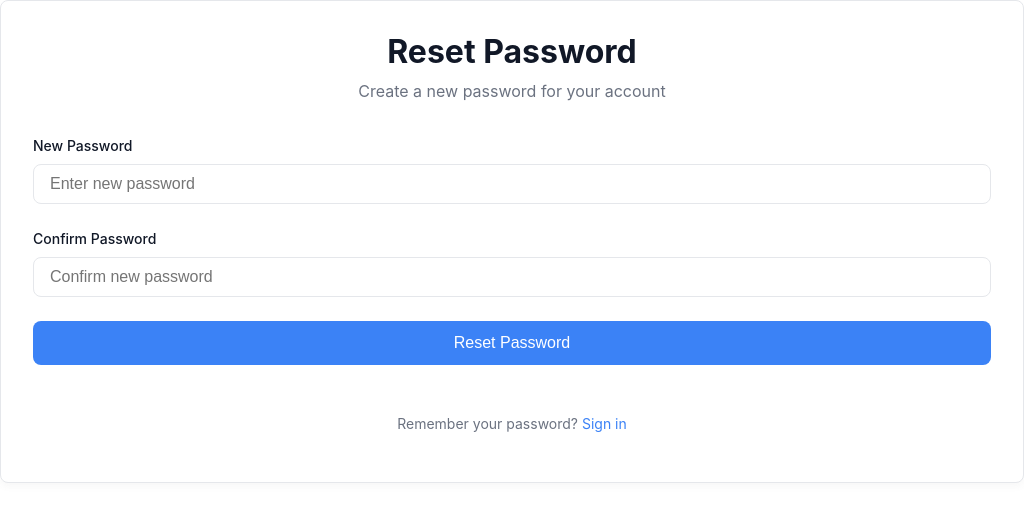
Test: ChangePasswordForm › shows password length error if password is too short on submit
The image size is (1024, 529).
In the password field labelled "New Password": (512, 184) [33,164,991,204], type "short"
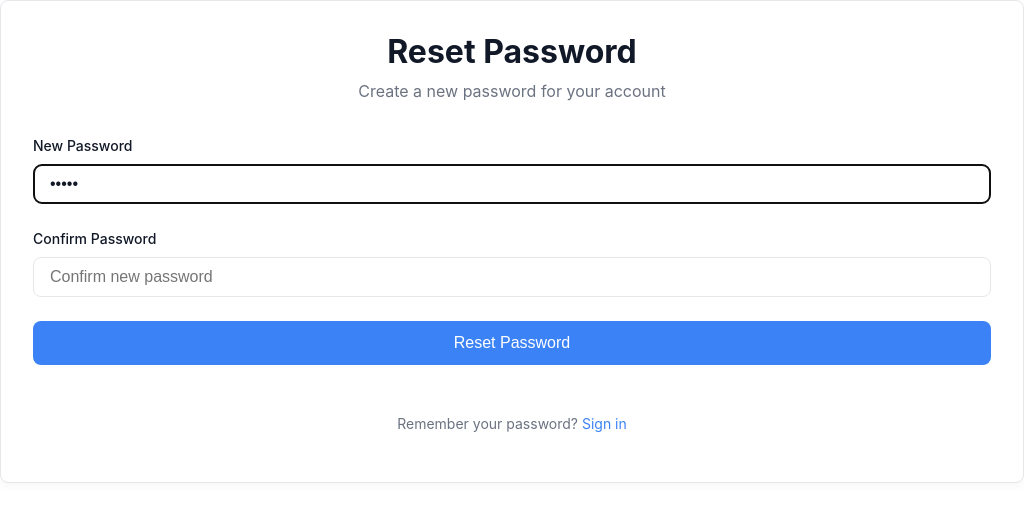
In the password field labelled "Confirm Password": (512, 277) [33,257,991,297], type "short"
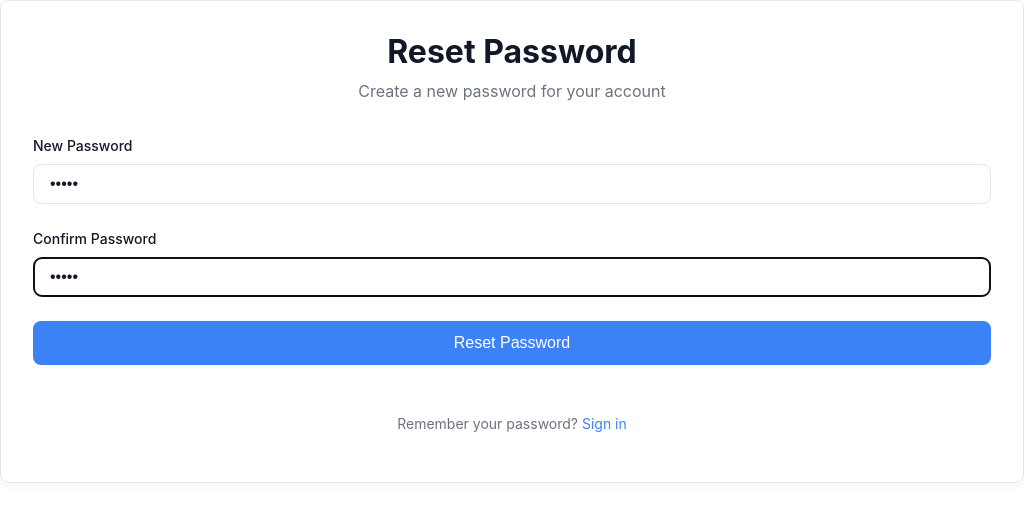
Click the button "Reset Password": (512, 343) [33,321,991,365]
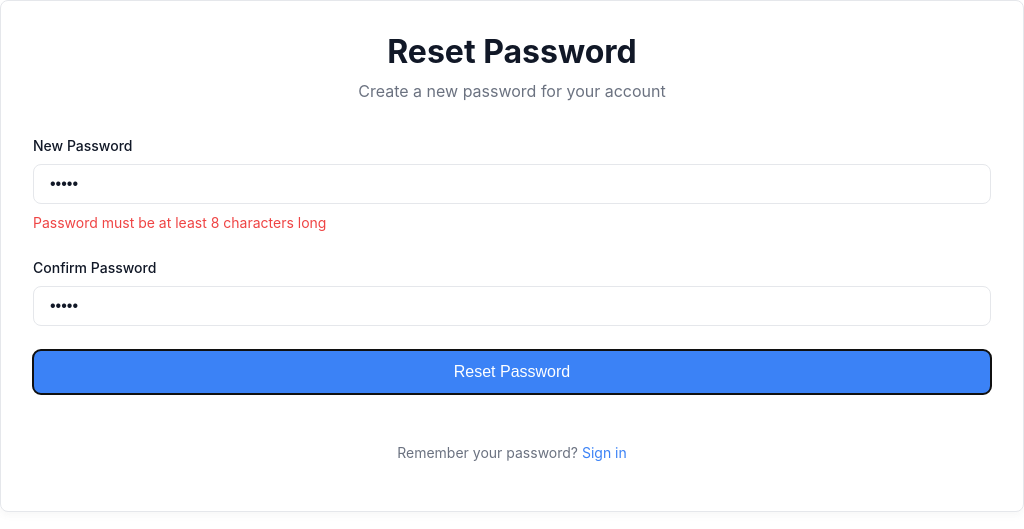
Expected: the button "Reset Password" is enabled, [33,350,991,394]
Expected: the text "Password must be at least 8 characters long" is shown, [33,214,326,231]
